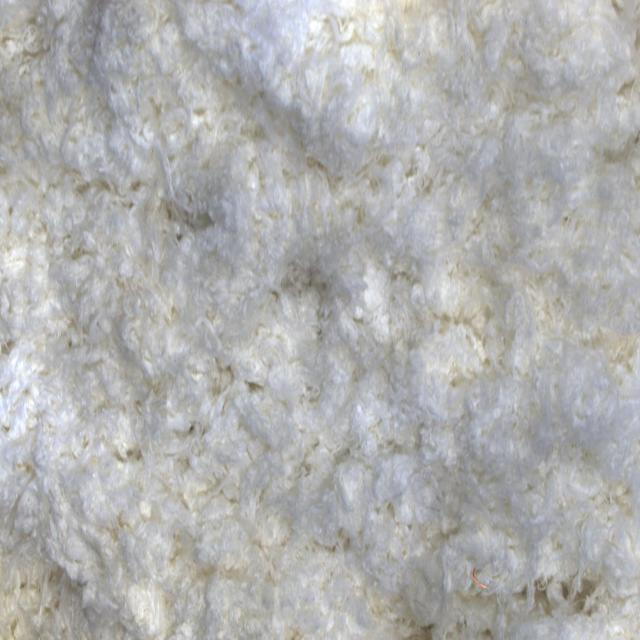dust: (469, 564, 489, 591)
